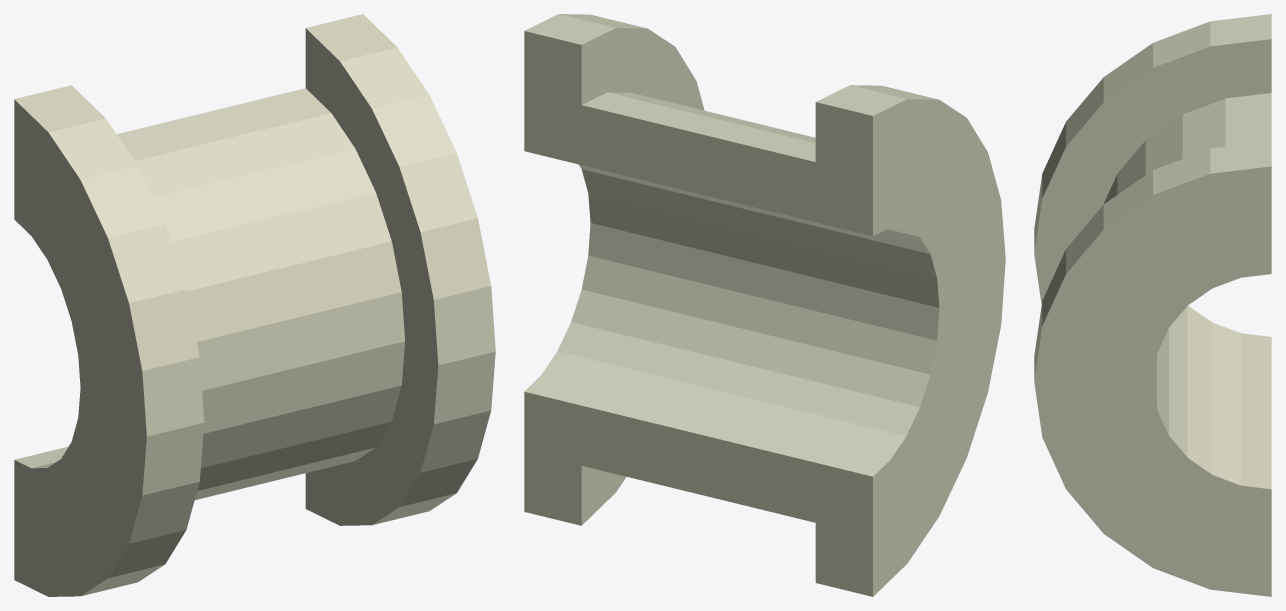
File: section_104.obj
The picture shows the model from 3 angles, left to right: view 1: azimuth 30°, elevation 25°; view 2: azimuth 150°, elevation 25°; view 3: azimuth 270°, elevation 25°; orthographic projection. The views are drawn at different scales.
Bounding box in the file's own units: 6.07 × 8 × 4.
